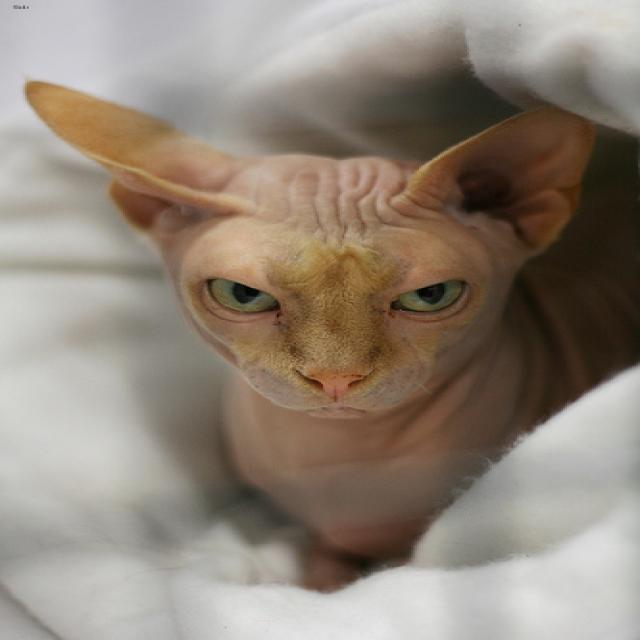cat: (23, 80, 588, 418)
